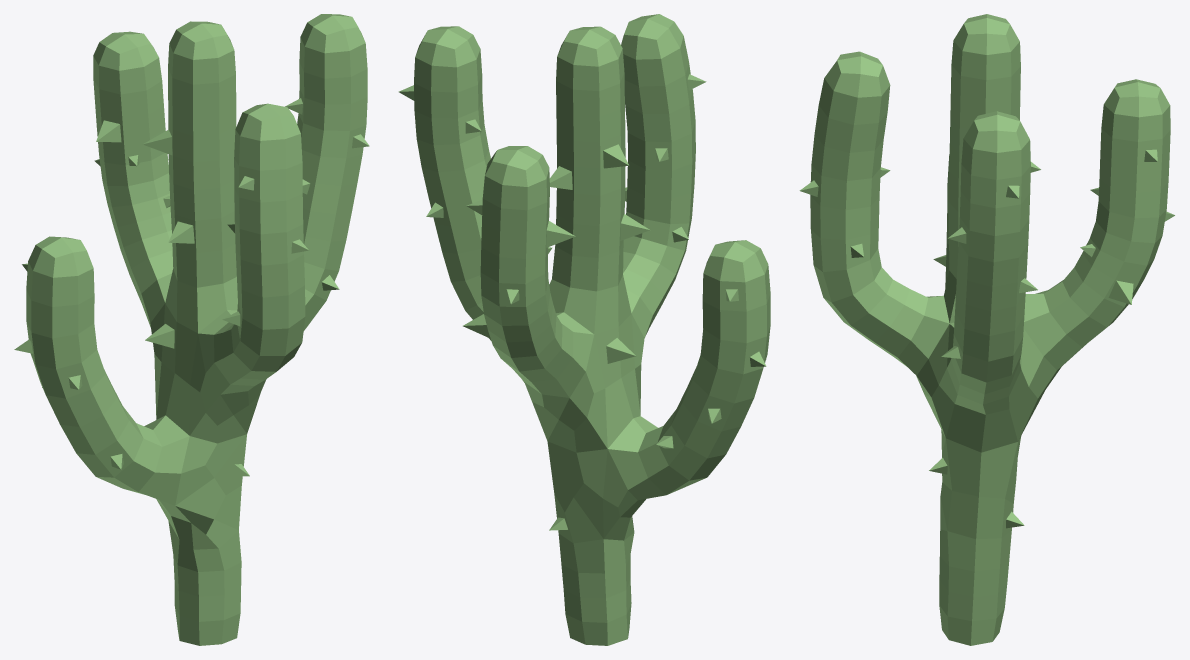
Rendered from cactus_2.fbx.
3 views of the same model, side by side, from view 1: azimuth 30°, elevation 25°; view 2: azimuth 150°, elevation 25°; view 3: azimuth 270°, elevation 25° (orthographic).
Parts seen in each view (by area): view 1: Plane; view 2: Plane; view 3: Plane.
Part boxes in pixels (x1,y1,x2,y2): Plane: (14,14,369,645); Plane: (398,14,770,645); Plane: (799,14,1174,645).
Bounding box in the file's own units: 23.03 × 37.49 × 20.76.
